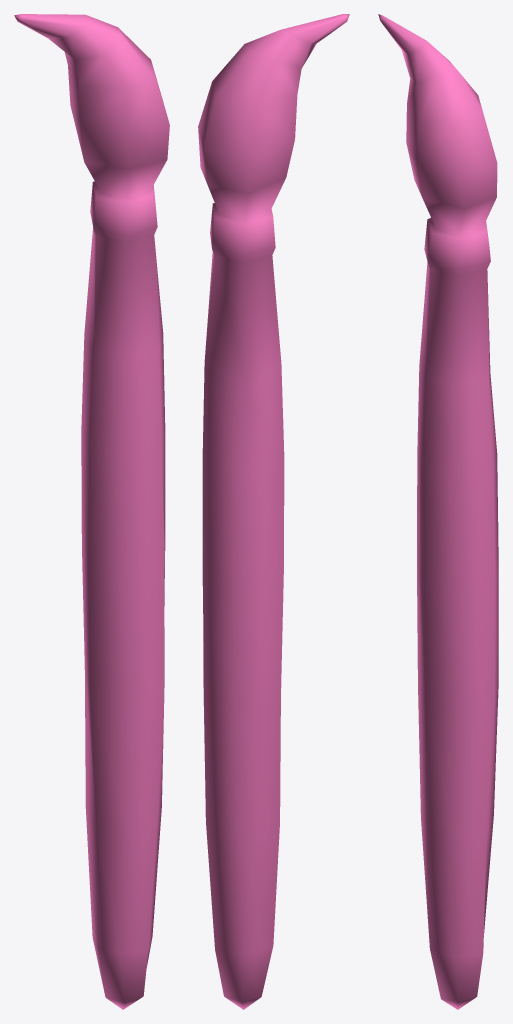
Rendered from PaintBrush.fbx.
3 views of the same model, side by side, from view 1: azimuth 30°, elevation 25°; view 2: azimuth 210°, elevation 25°; view 3: azimuth 330°, elevation 25° (orthographic). The views are drawn at different scales.
Parts seen in each view (by area): view 1: PaintBrush; view 2: PaintBrush; view 3: PaintBrush.
Part boxes in pixels (<box>): PaintBrush: <box>14,14,169,1009</box>; PaintBrush: <box>198,14,349,1009</box>; PaintBrush: <box>378,14,498,1009</box>.
Bounding box in the file's own units: 0.853 × 5.99 × 0.4816.
